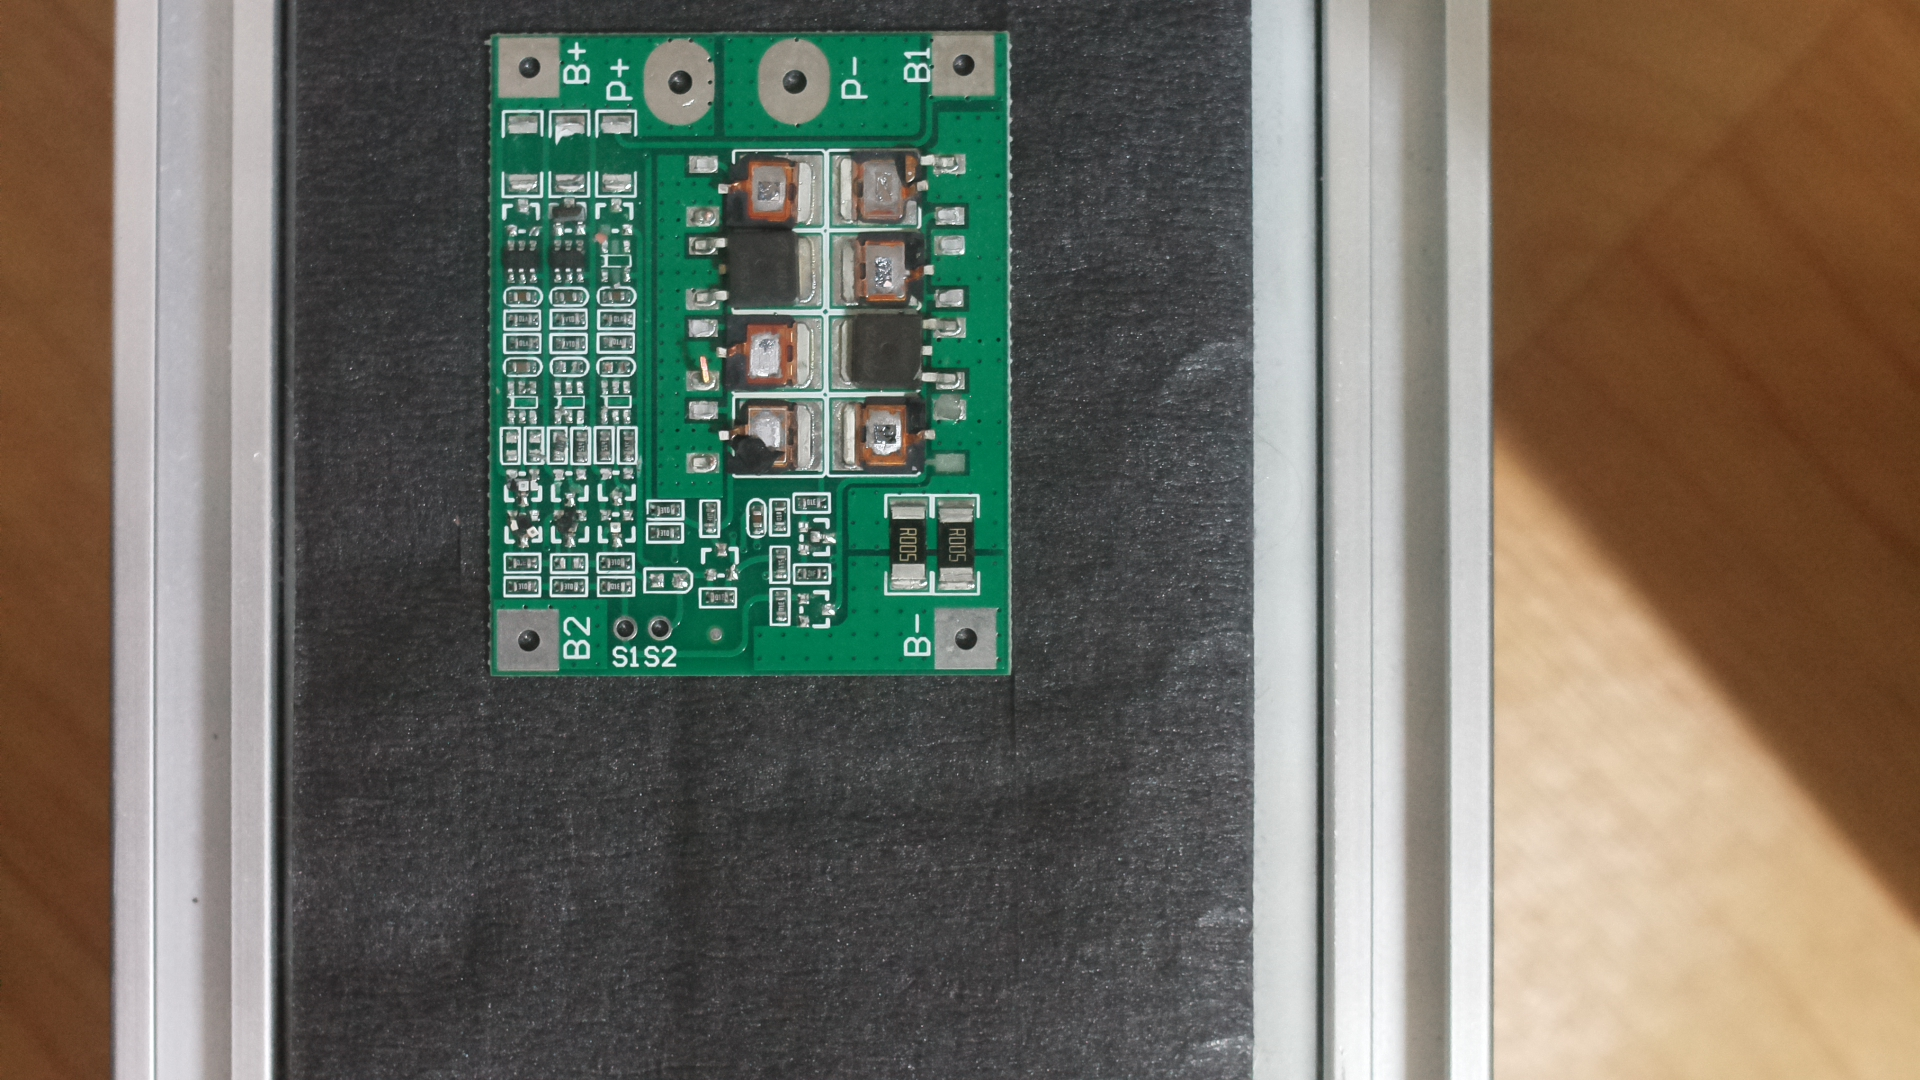C_Missing_part: (468, 21, 1030, 705)
